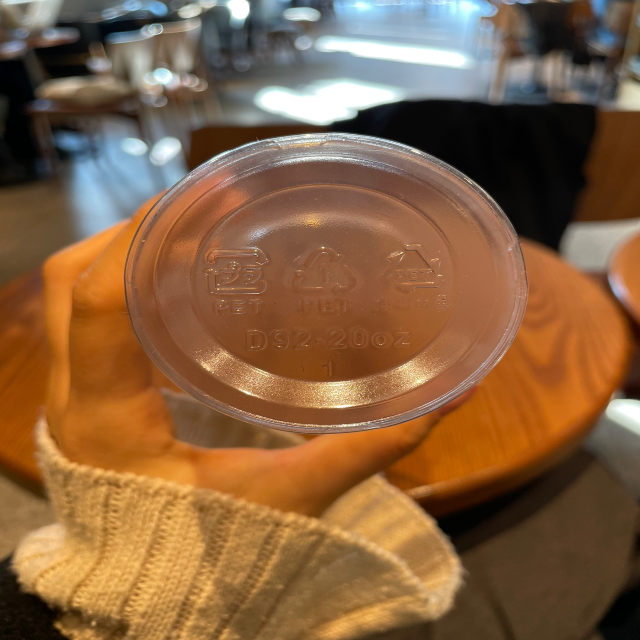pet: (284, 241, 363, 323), (197, 240, 276, 320), (373, 239, 452, 318)
